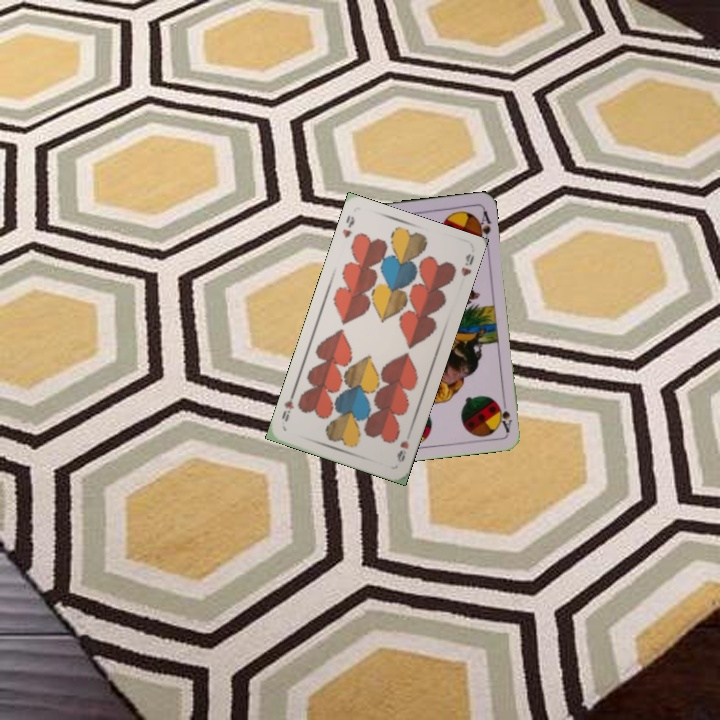H9: (338, 211, 357, 240), (393, 436, 411, 465)
SA: (494, 394, 514, 434)
